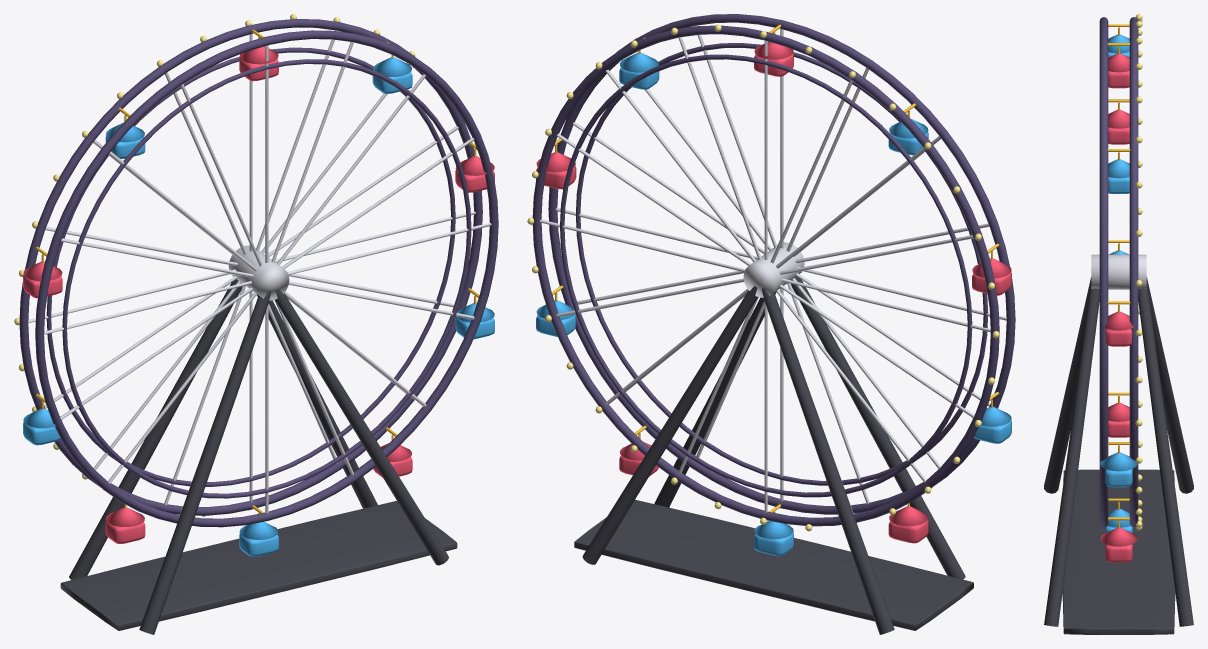
The model's file is RockinRacewayWheel.obj.
The picture shows the model from 3 angles, left to right: view 1: azimuth 30°, elevation 25°; view 2: azimuth 150°, elevation 25°; view 3: azimuth 270°, elevation 25°; orthographic projection. The views are drawn at different scales.
Parts seen in each view (by area): view 1: Rim, Legs, Spokes, GondolaB, GondolaA; view 2: Rim, Legs, Spokes, GondolaB, GondolaA, Lights; view 3: Legs, Rim, GondolaA, GondolaB, Spokes, Lights, Gold.
Part boxes in pixels (<box>): Rim: <box>19,19,498,527</box>; Legs: <box>60,279,457,634</box>; Spokes: <box>28,30,491,514</box>; GondolaB: <box>23,57,494,556</box>; GondolaA: <box>23,46,494,543</box>; Rim: <box>532,14,1015,526</box>; Legs: <box>574,276,973,634</box>; Spokes: <box>539,25,1006,513</box>; GondolaB: <box>536,52,1011,556</box>; GondolaA: <box>536,41,1011,543</box>; Lights: <box>527,24,999,531</box>; Legs: <box>1044,277,1193,634</box>; Rim: <box>1099,17,1138,527</box>; GondolaA: <box>1100,53,1137,562</box>; GondolaB: <box>1100,34,1137,532</box>; Spokes: <box>1091,254,1146,289</box>; Lights: <box>1135,14,1142,530</box>; Gold: <box>1107,24,1130,528</box>.
Bounding box in the file's own units: 41.16 × 45.86 × 11.93.
